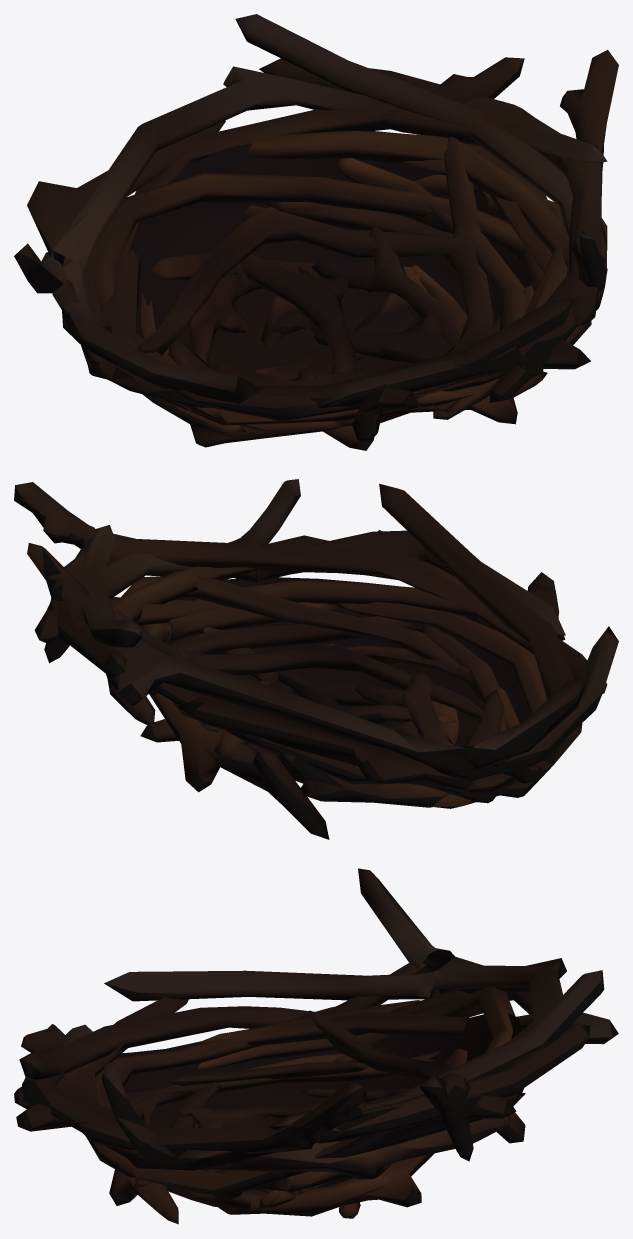
File: nest.fbx
3 renders of one model, top to bottom at view 1: azimuth 30°, elevation 25°; view 2: azimuth 150°, elevation 25°; view 3: azimuth 270°, elevation 25°, orthographic. The views are drawn at different scales.
Visible parts, largest first — view 1: Plane; view 2: Plane; view 3: Plane.
Boxes of the visible parts, x1,y1,x2,y2 form: Plane: (14, 14, 618, 450); Plane: (14, 479, 618, 839); Plane: (14, 868, 618, 1224).
Bounding box in the file's own units: 5.32 × 2.13 × 4.89.
